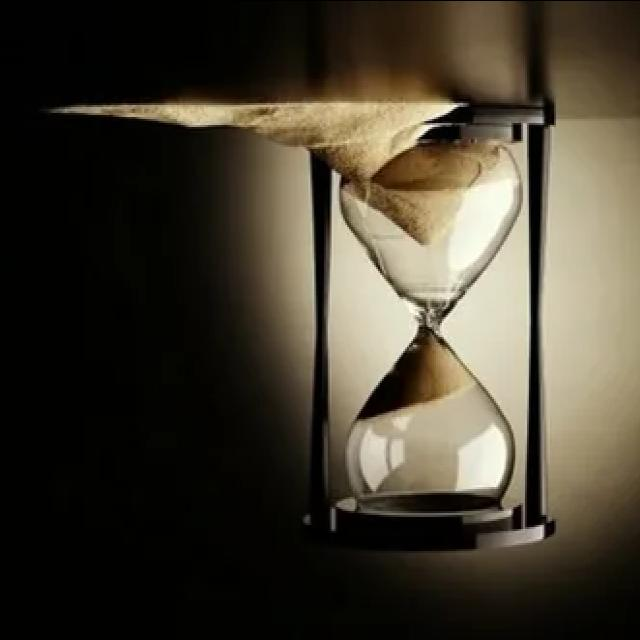clock: (284, 100, 558, 566)
